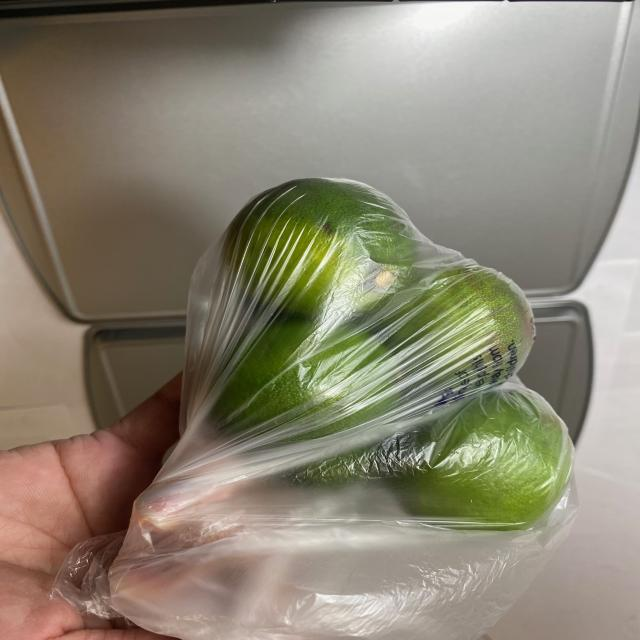lemon: (201, 179, 573, 546)
